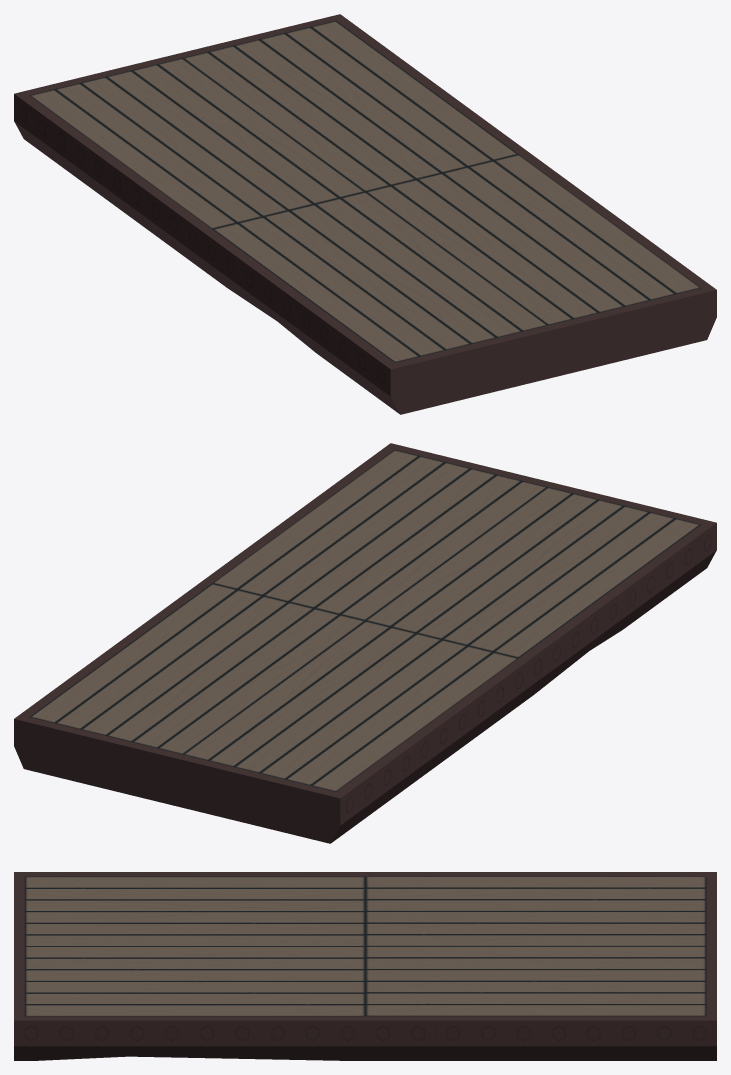
The model's file is SW_ENV_EL_Station_Elevator_Walkway_10m.fbx.
3 renders of one model, top to bottom at view 1: azimuth 30°, elevation 25°; view 2: azimuth 150°, elevation 25°; view 3: azimuth 270°, elevation 25°, orthographic. The views are drawn at different scales.
Parts seen in each view (by area): view 1: SW_ENV_EL_Station_Elevator_Walkway_10m; view 2: SW_ENV_EL_Station_Elevator_Walkway_10m; view 3: SW_ENV_EL_Station_Elevator_Walkway_10m.
Boxes of the visible parts, <box> form: SW_ENV_EL_Station_Elevator_Walkway_10m: <box>14,14,716,414</box>; SW_ENV_EL_Station_Elevator_Walkway_10m: <box>14,443,716,843</box>; SW_ENV_EL_Station_Elevator_Walkway_10m: <box>14,872,716,1060</box>.
Bounding box in the file's own units: 500 × 70 × 1000.
